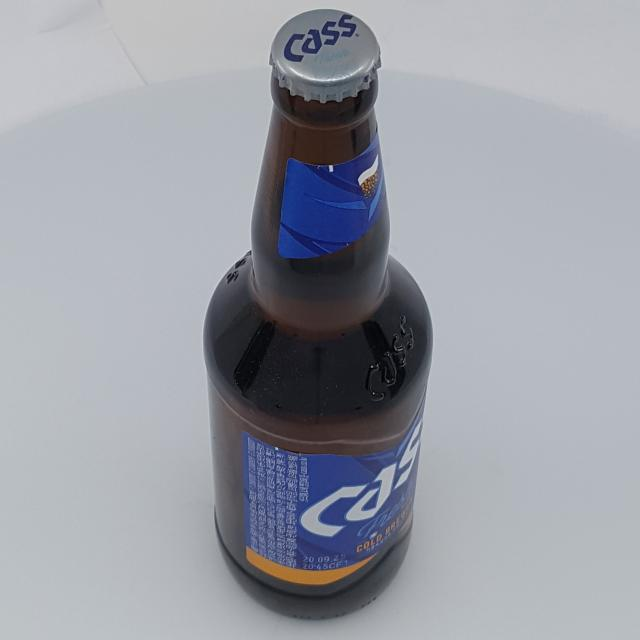beer-bottle: (203, 9, 433, 620)
